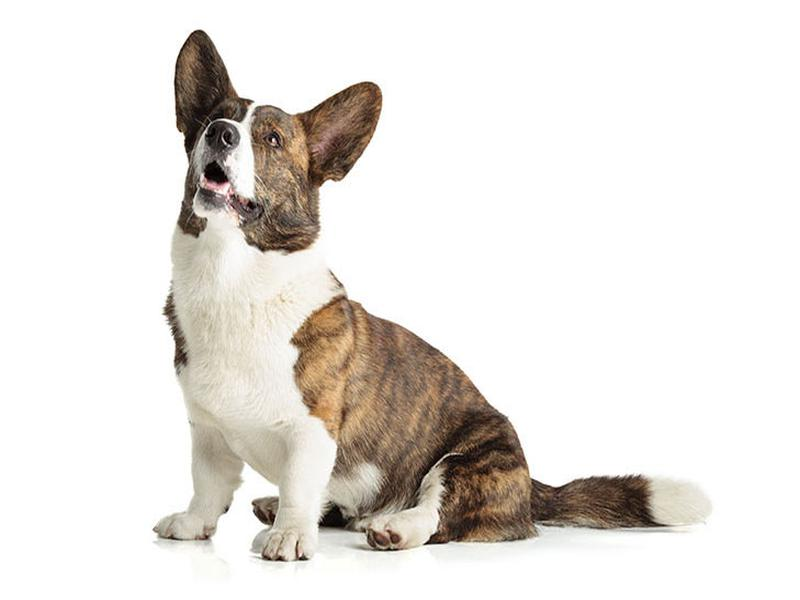corgi: (171, 27, 385, 219)
